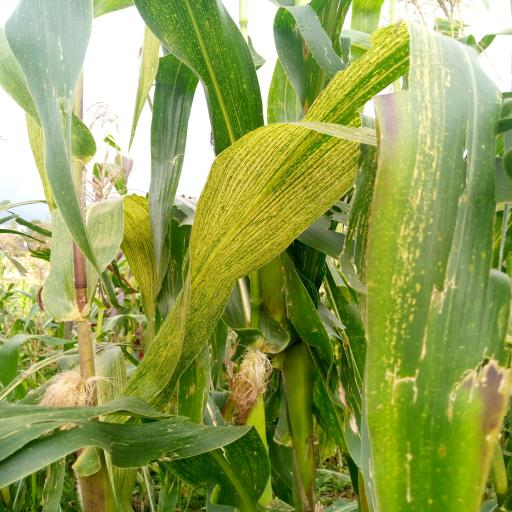Corn_Streak: (129, 30, 512, 406)
